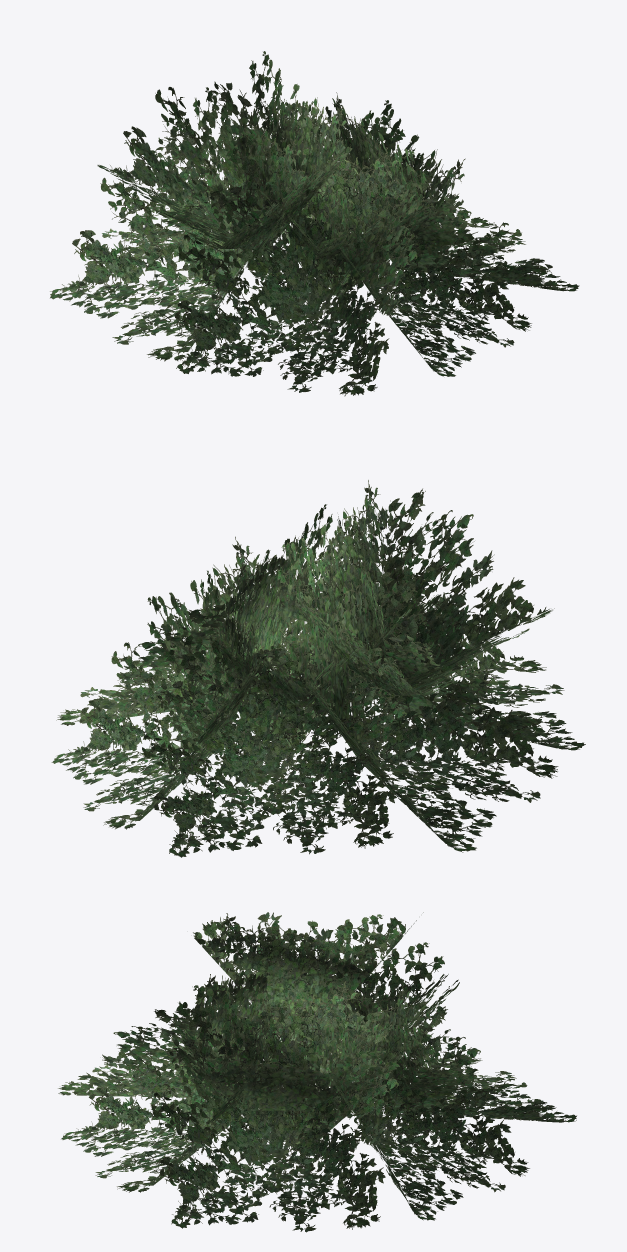
File: shrb_giantlickbush_a2_l1.fbx
The picture shows the model from 3 angles, top to bottom: view 1: azimuth 30°, elevation 25°; view 2: azimuth 150°, elevation 25°; view 3: azimuth 270°, elevation 25°; orthographic projection. The views are drawn at different scales.
Visible parts, largest first — view 1: mesh_node; view 2: mesh_node; view 3: mesh_node.
Part boxes in pixels (x1,y1,x2,y2): mesh_node: [50, 51, 579, 396]; mesh_node: [51, 480, 585, 857]; mesh_node: [58, 912, 576, 1232].
Size of the model in its own units: 4.28 by 2.25 by 5.1.
1 material, 1 textured.
